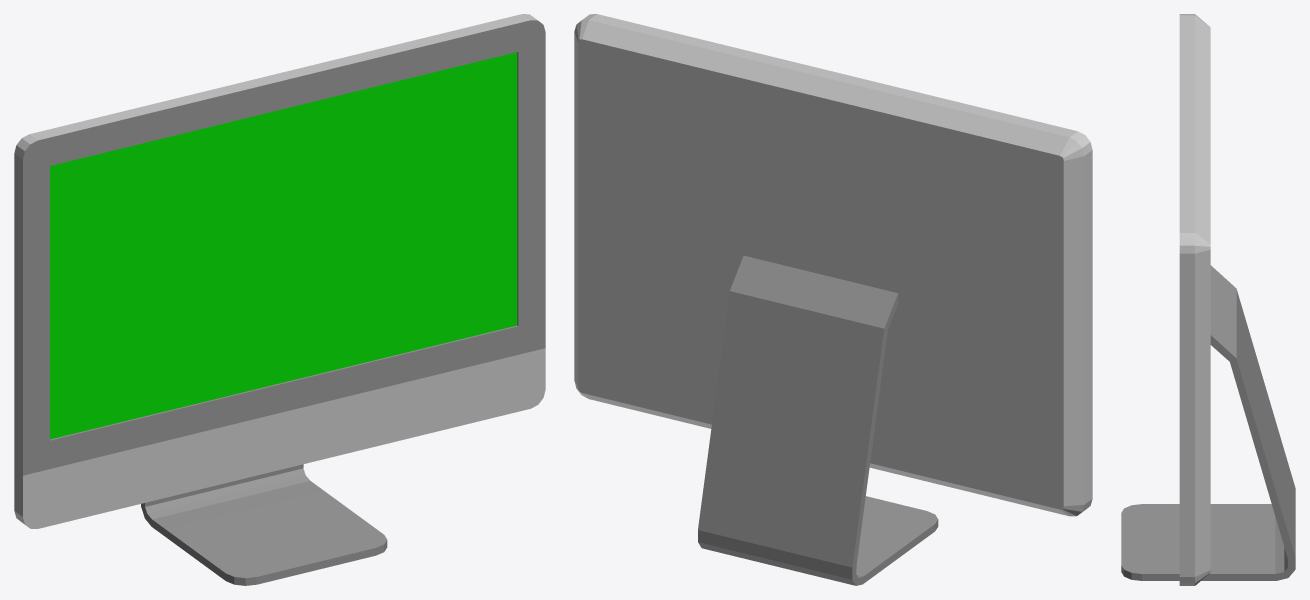
The model's file is PC_Monitor.fbx.
3 renders of one model, left to right at view 1: azimuth 30°, elevation 25°; view 2: azimuth 150°, elevation 25°; view 3: azimuth 270°, elevation 25°, orthographic. The views are drawn at different scales.
Parts seen in each view (by area): view 1: PC_Monitor; view 2: PC_Monitor; view 3: PC_Monitor.
Boxes of the visible parts, x1=… form: PC_Monitor: x1=14, y1=14, x2=545, y2=585; PC_Monitor: x1=574, y1=14, x2=1092, y2=585; PC_Monitor: x1=1121, y1=14, x2=1295, y2=585.
Bounding box in the file's own units: 73.92 × 63 × 23.59.
